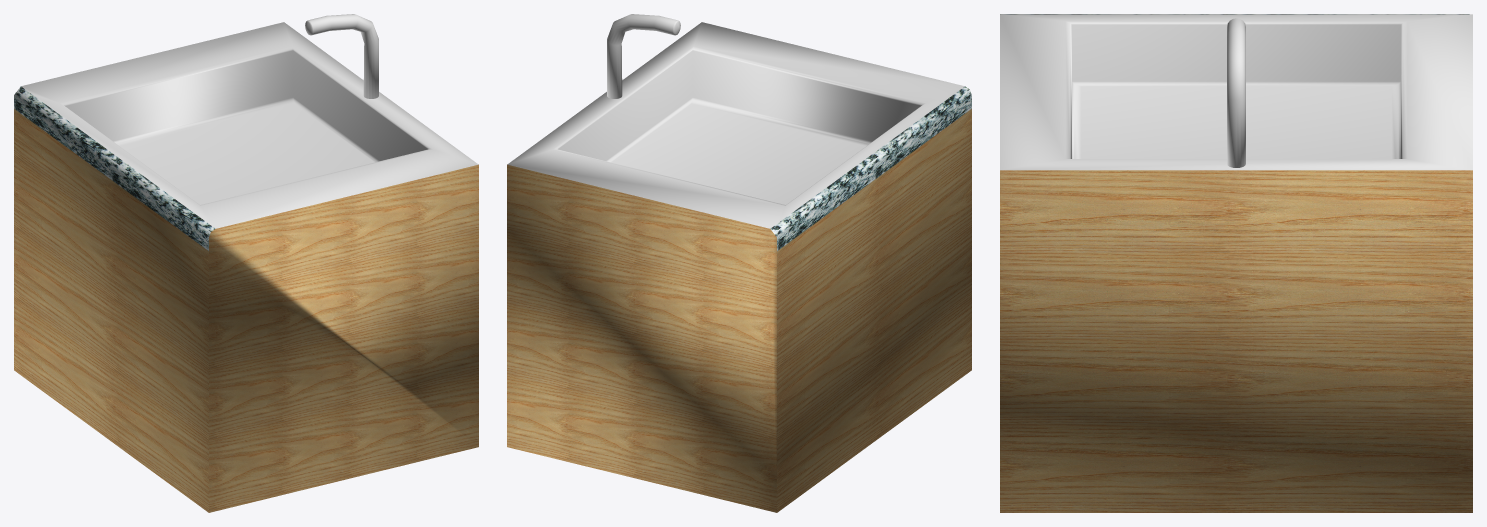
File: worktop_sink.fbx
3 views of the same model, side by side, from view 1: azimuth 30°, elevation 25°; view 2: azimuth 150°, elevation 25°; view 3: azimuth 270°, elevation 25° (orthographic). The views are drawn at different scales.
Visible parts, largest first — view 1: worktop_sink; view 2: worktop_sink; view 3: worktop_sink.
Part boxes in pixels (x1,y1,x2,y2): worktop_sink: [14, 14, 478, 512]; worktop_sink: [507, 14, 971, 512]; worktop_sink: [1000, 14, 1472, 512].
Bounding box in the file's own units: 80 × 106 × 100.
